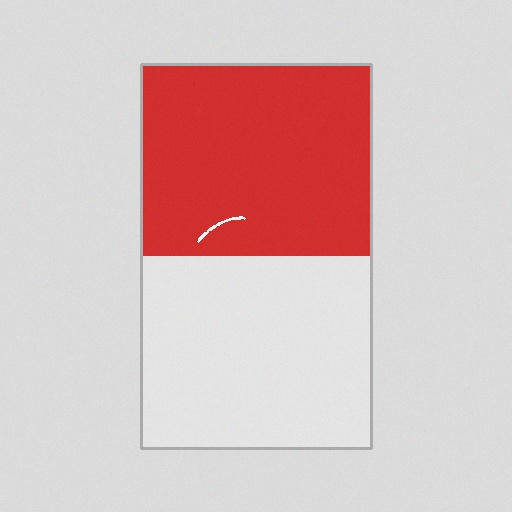scratch: (193, 212, 249, 246)
